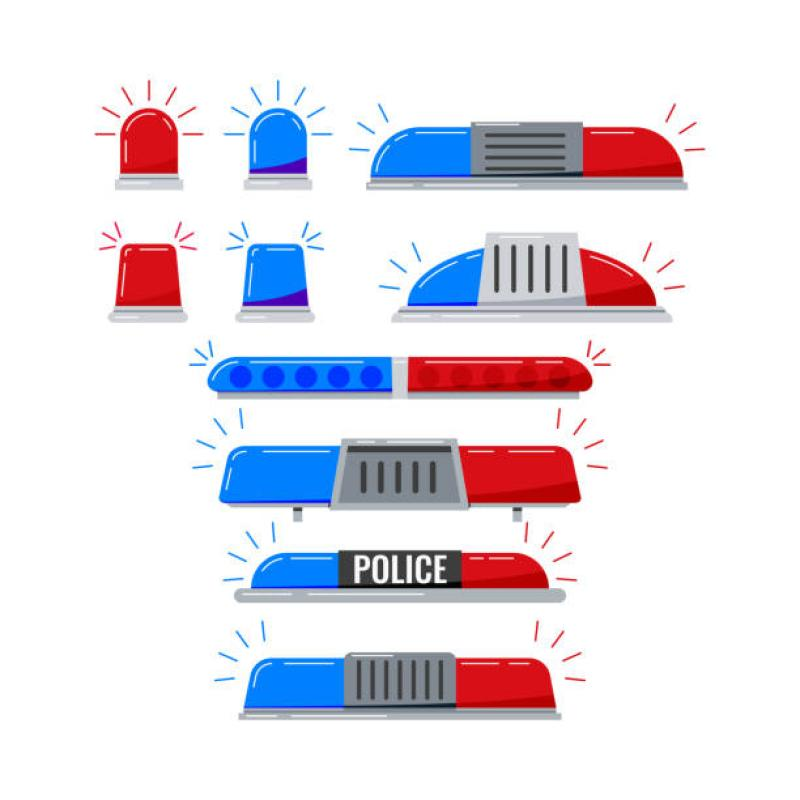AmbulanceSiren: (346, 107, 710, 224), (204, 426, 614, 527), (214, 643, 598, 738), (364, 230, 694, 334), (211, 545, 578, 620), (198, 342, 607, 406), (220, 74, 331, 204), (93, 90, 216, 195), (225, 219, 338, 331), (96, 223, 198, 327)
